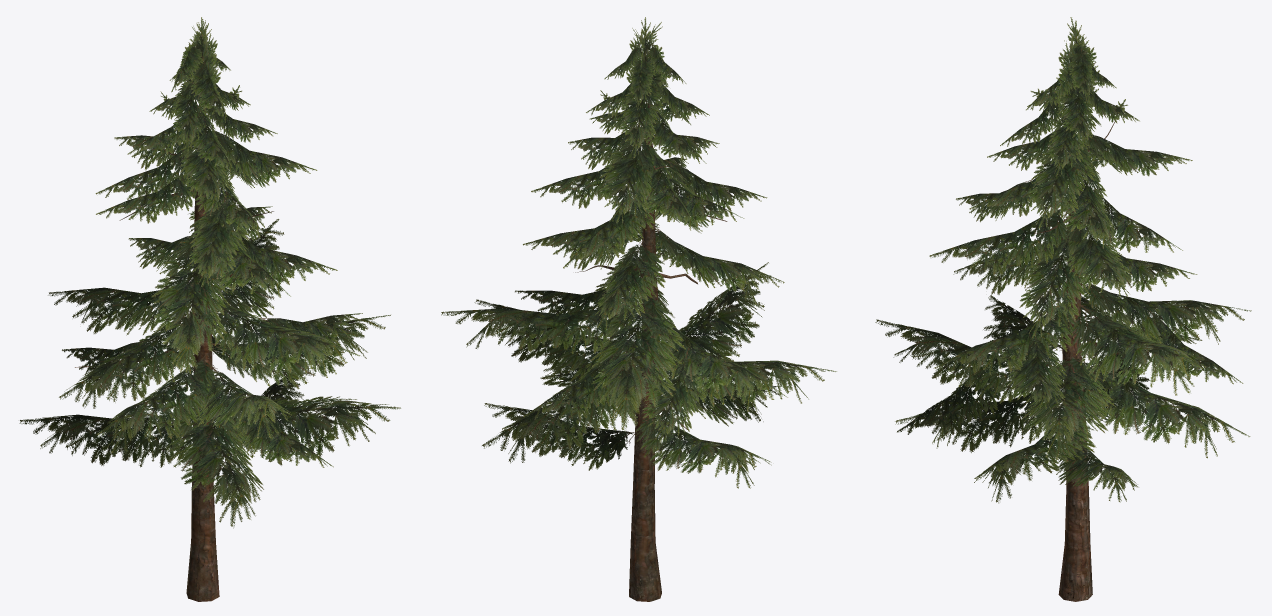
Rendered from gar_b0_m0190.fbx.
3 views of the same model, side by side, from view 1: azimuth 30°, elevation 25°; view 2: azimuth 150°, elevation 25°; view 3: azimuth 270°, elevation 25° (orthographic).
Parts seen in each view (by area): view 1: gar_b0_m0190 Part 0.0, gar_b0_m0190 Part 1.0; view 2: gar_b0_m0190 Part 0.0, gar_b0_m0190 Part 1.0; view 3: gar_b0_m0190 Part 0.0, gar_b0_m0190 Part 1.0.
Part boxes in pixels (x1,y1,x2,y2): gar_b0_m0190 Part 0.0: (19,17,400,528); gar_b0_m0190 Part 1.0: (75,108,273,601); gar_b0_m0190 Part 0.0: (441,17,836,488); gar_b0_m0190 Part 1.0: (575,94,727,601); gar_b0_m0190 Part 0.0: (875,17,1251,503); gar_b0_m0190 Part 1.0: (1034,110,1146,601).
Size of the model in its own units: 6.57 by 10.63 by 6.44.
2 materials, 2 textured.
